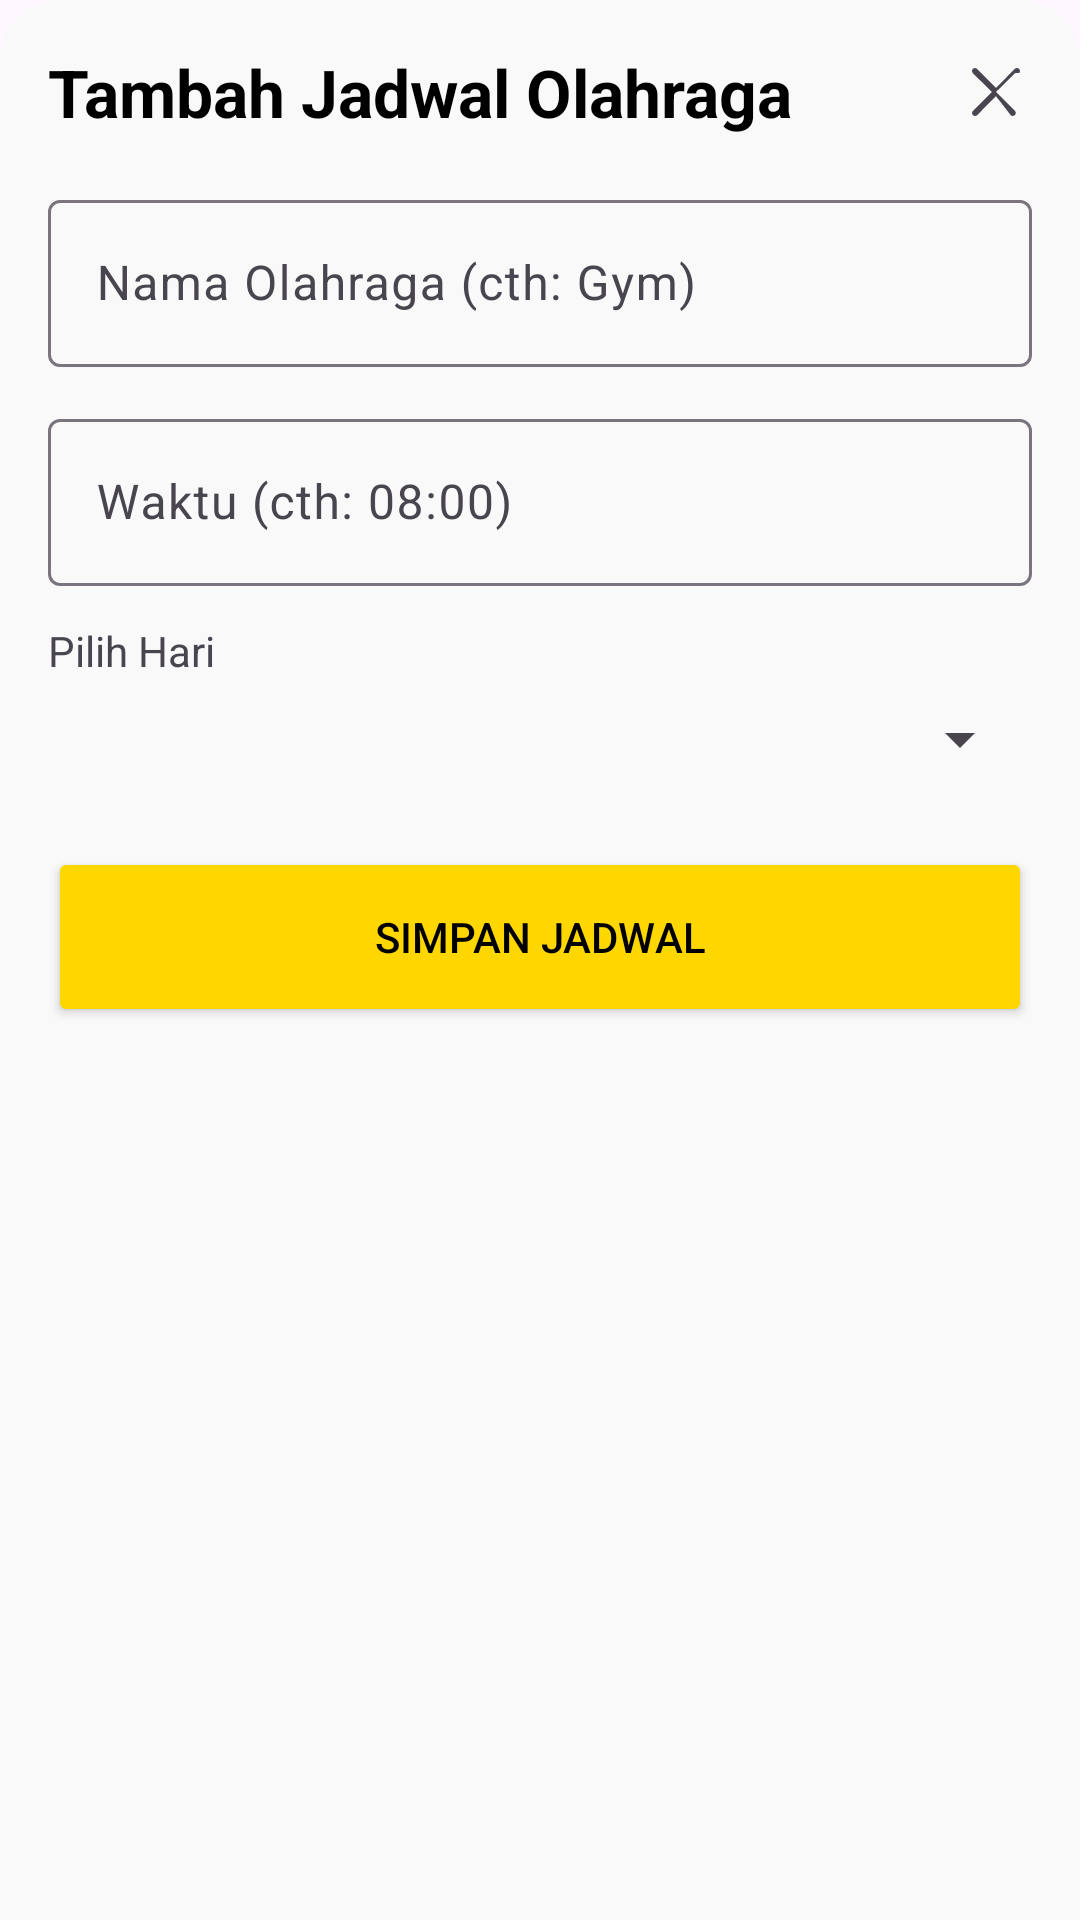

Where icons sit on this 1080px×1920px app screen, as (x1, y1, x2, y2):
Tutup: (972, 68, 1020, 116)
